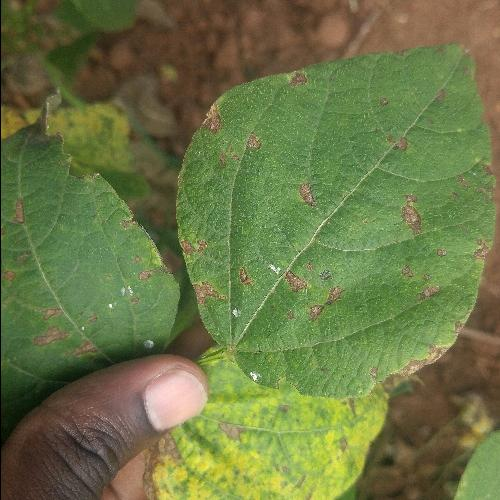embun tepung: (103, 264, 162, 356), (254, 252, 290, 283), (242, 370, 267, 382), (226, 306, 242, 322)
hawar: (238, 246, 335, 325), (366, 308, 461, 384), (178, 186, 228, 304), (452, 149, 493, 272), (24, 299, 96, 358), (396, 177, 436, 248), (393, 256, 446, 302), (183, 86, 228, 134), (240, 124, 288, 162), (379, 119, 415, 152), (296, 178, 330, 212), (286, 62, 318, 92), (16, 188, 34, 226), (370, 87, 396, 108), (0, 269, 18, 287)
